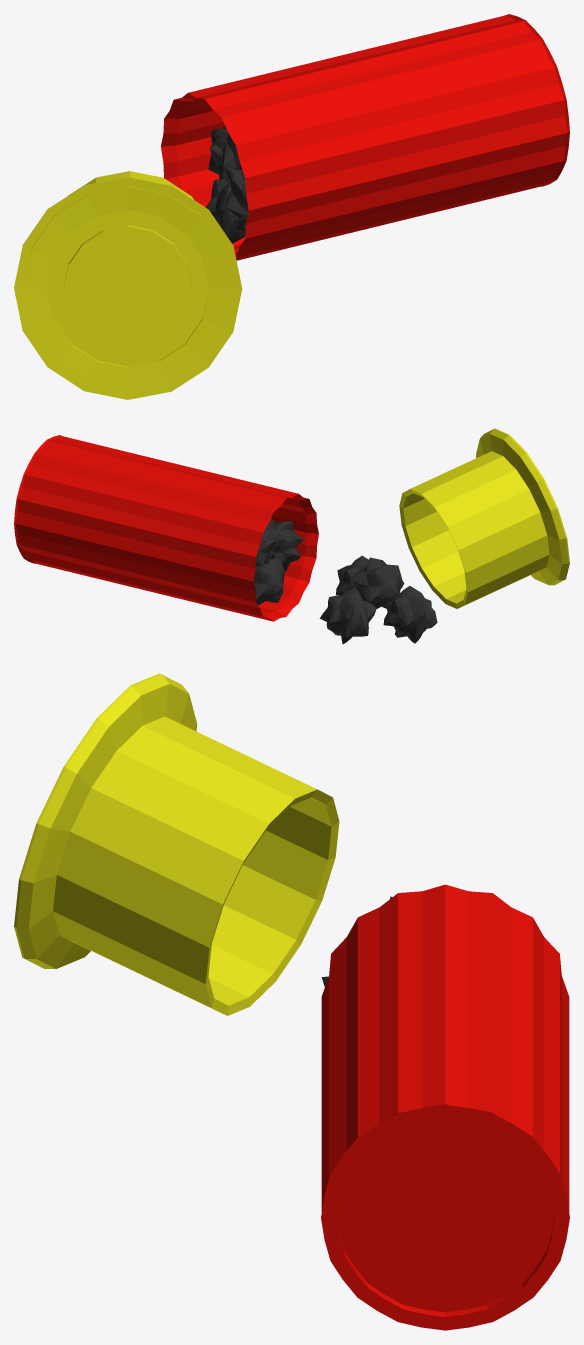
The model's file is sharpPelletFused.fbx.
3 renders of one model, top to bottom at view 1: azimuth 30°, elevation 25°; view 2: azimuth 150°, elevation 25°; view 3: azimuth 270°, elevation 25°, orthographic. The views are drawn at different scales.
Visible parts, largest first — view 1: Fused_pellet; view 2: Fused_pellet; view 3: Fused_pellet.
Boxes of the visible parts, x1=… form: Fused_pellet: x1=14, y1=14, x2=569, y2=399; Fused_pellet: x1=14, y1=428, x2=569, y2=644; Fused_pellet: x1=14, y1=673, x2=569, y2=1330.
Bounding box in the file's own units: 796 × 263 × 449.
